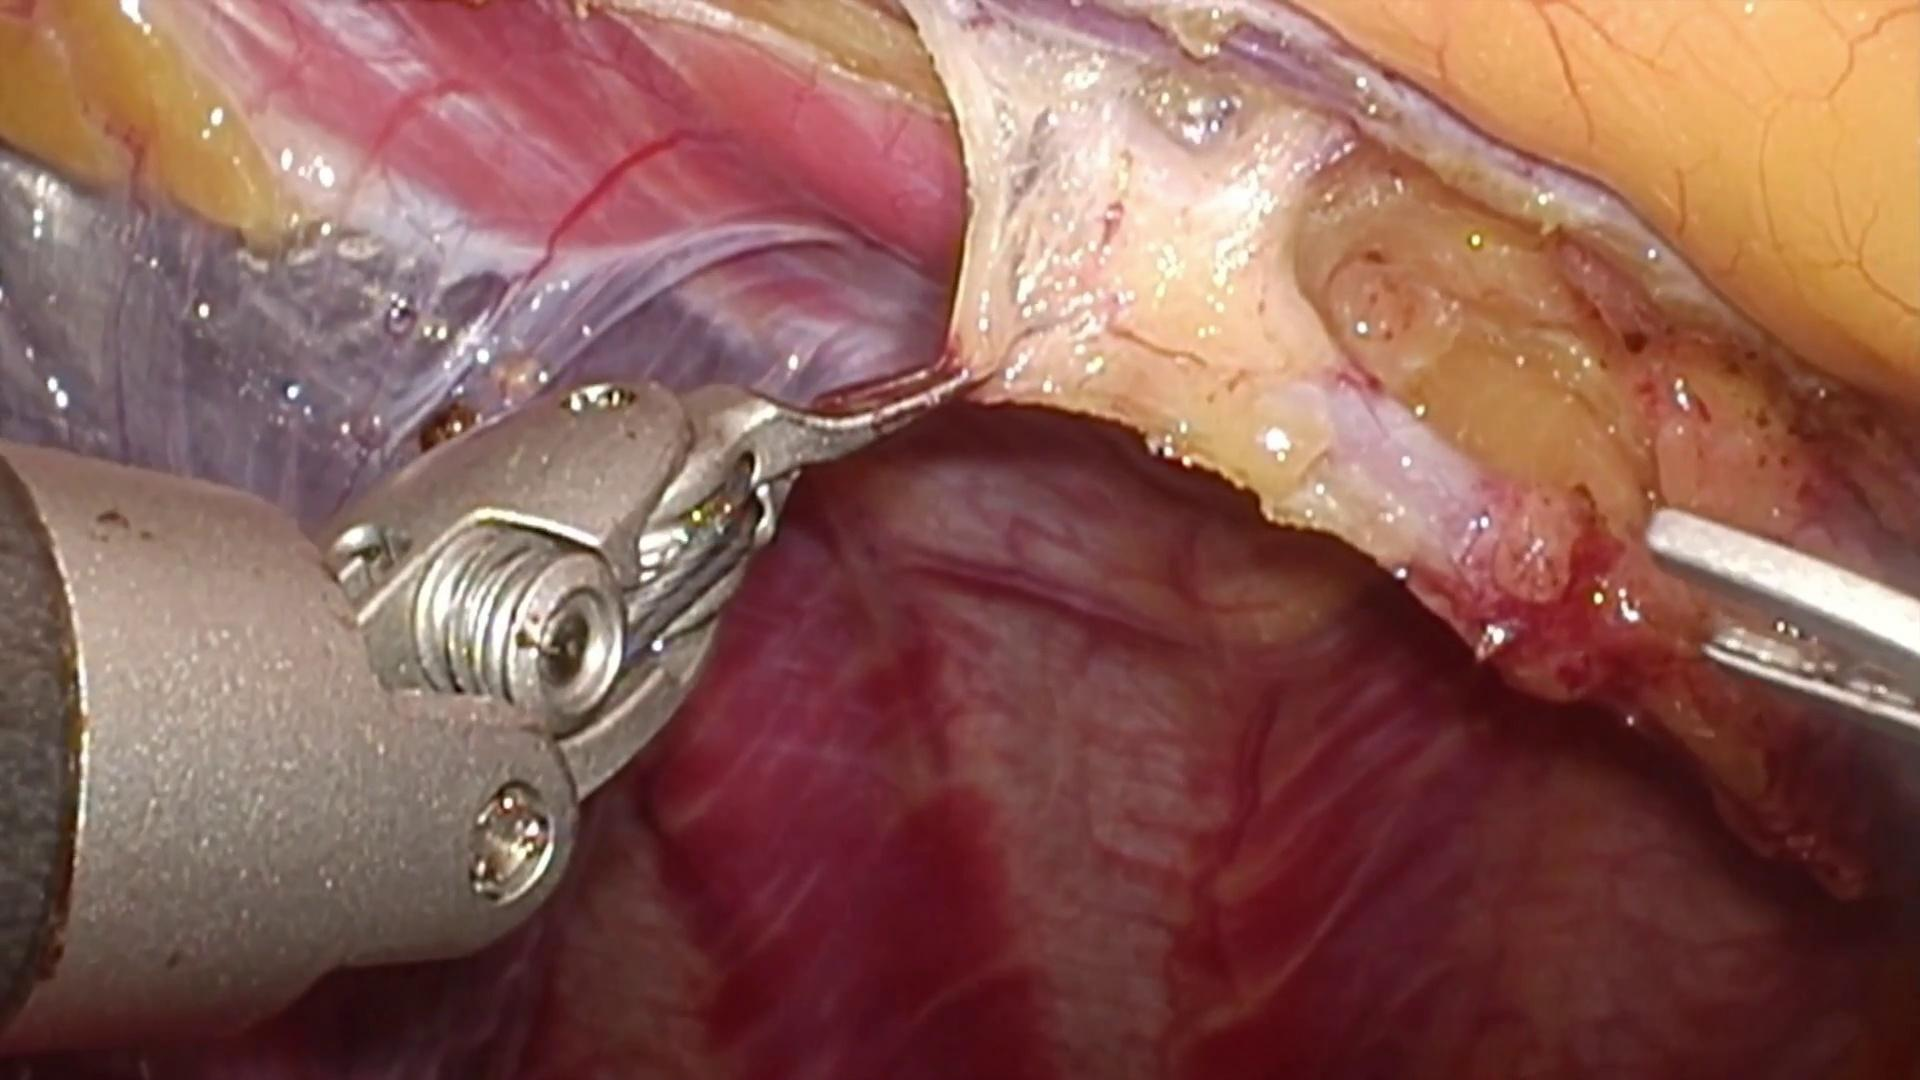Debakey: (674, 348, 973, 512)
clipper: (1634, 502, 1920, 756)
